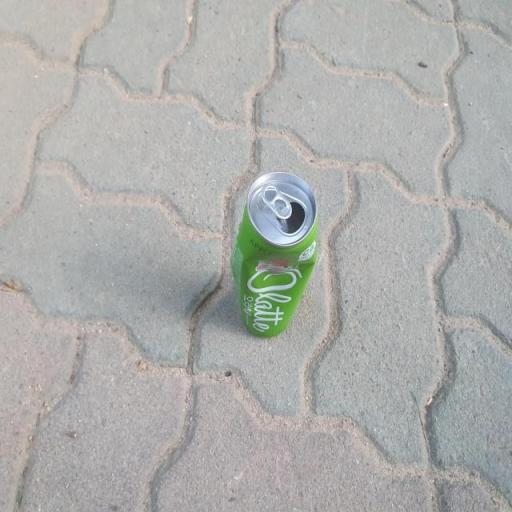metal: (222, 152, 332, 364)
